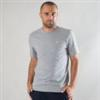abbigliamento_uomo: (28, 24, 80, 91)
